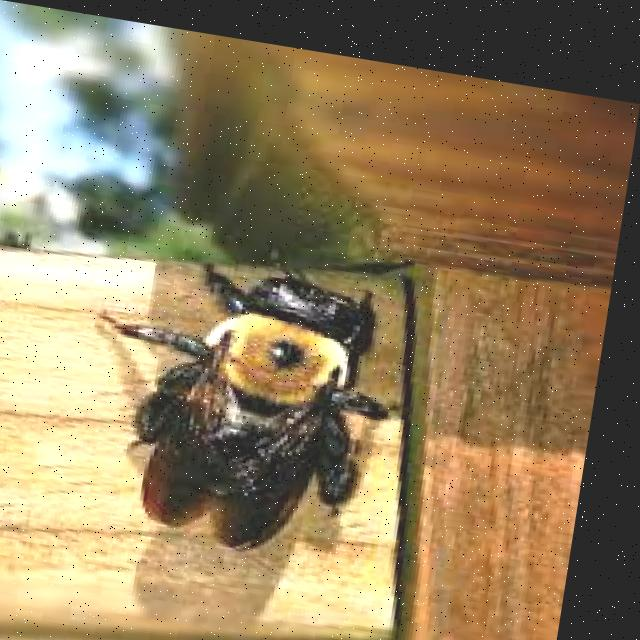Xylocopa: (96, 214, 421, 559)
